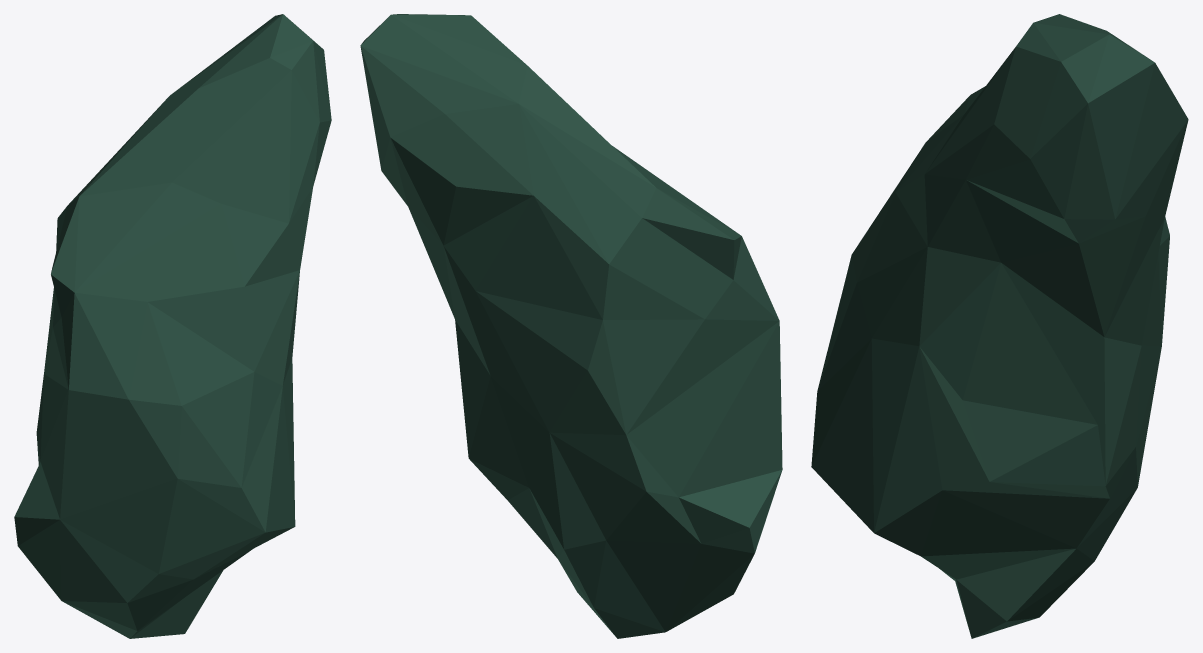
File: SM_large_rock_43.fbx
3 renders of one model, left to right at view 1: azimuth 30°, elevation 25°; view 2: azimuth 150°, elevation 25°; view 3: azimuth 270°, elevation 25°, orthographic. The views are drawn at different scales.
Parts seen in each view (by area): view 1: large_rock_43; view 2: large_rock_43; view 3: large_rock_43.
Boxes of the visible parts, box(x1,y1,x2,y2) form: large_rock_43: box(14, 14, 331, 638); large_rock_43: box(360, 14, 782, 638); large_rock_43: box(811, 14, 1188, 638).
Bounding box in the file's own units: 48.81 × 76.99 × 37.61.
